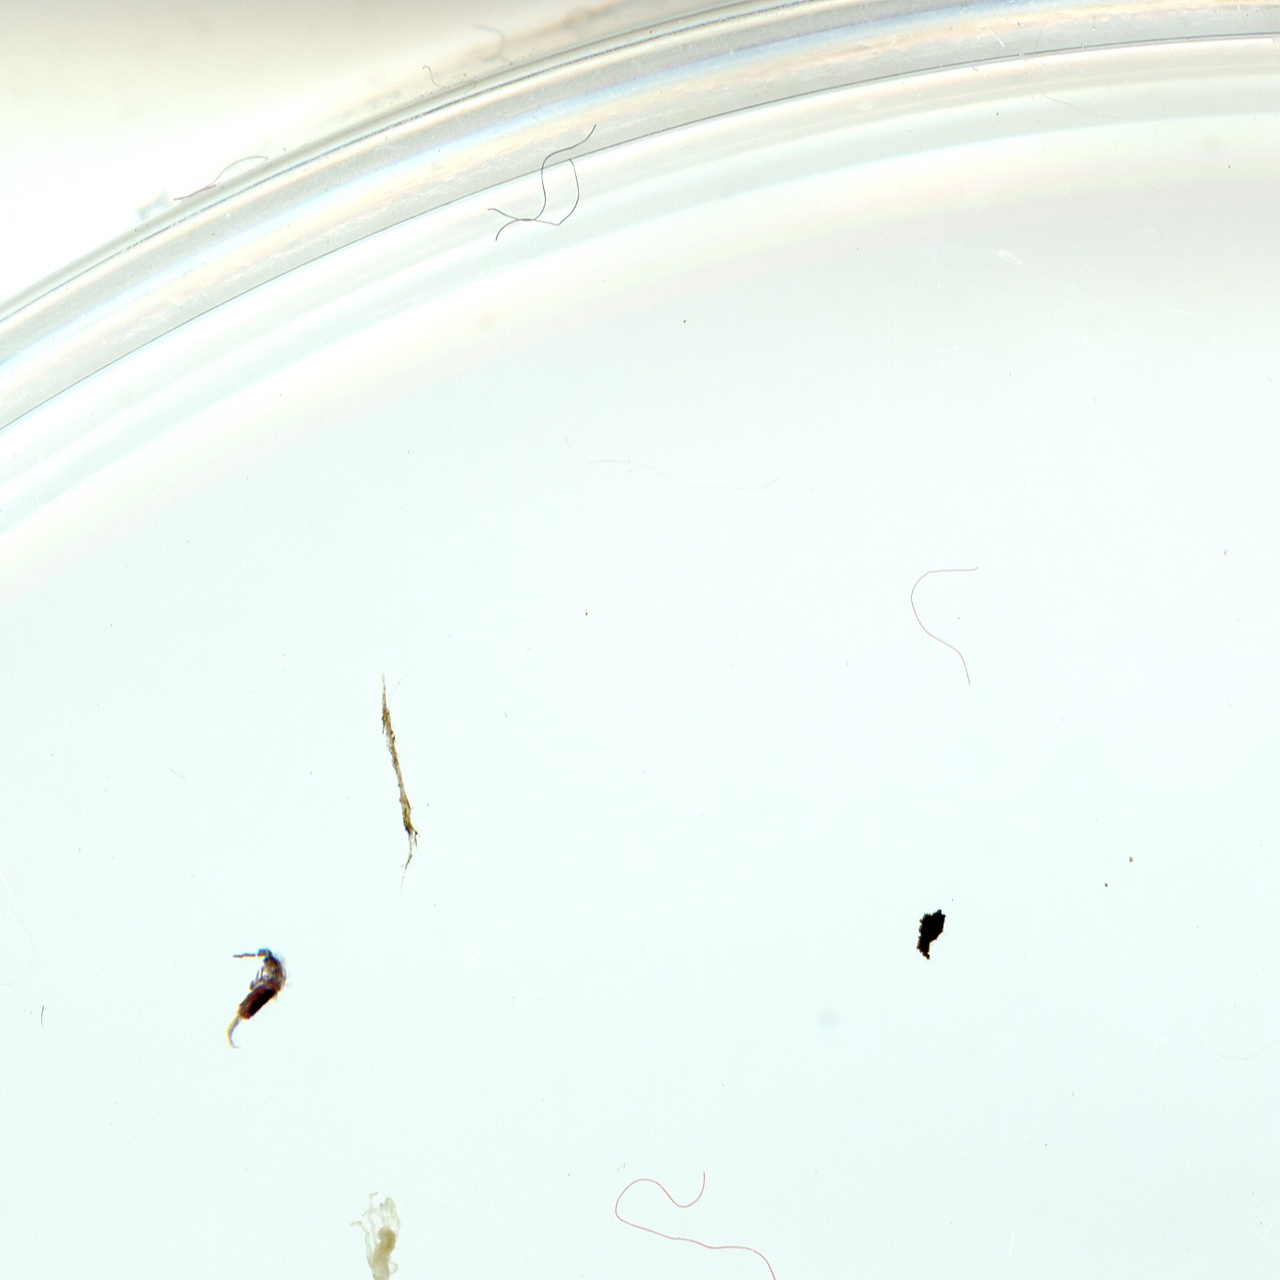arthropod: (223, 942, 297, 1059), (348, 1176, 416, 1280)
